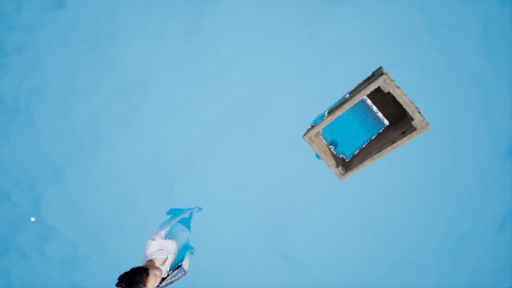person: (106, 204, 205, 288)
